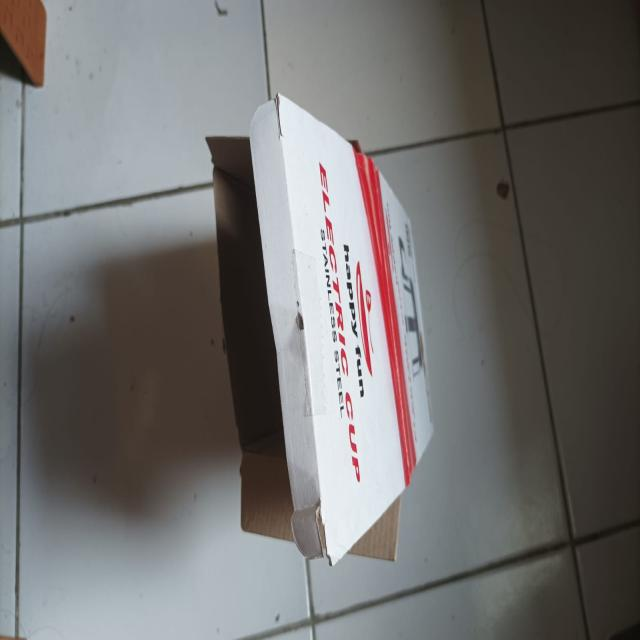Organik: (205, 97, 432, 567)
